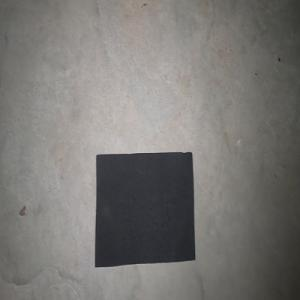PaintChip: (94, 151, 195, 267)
